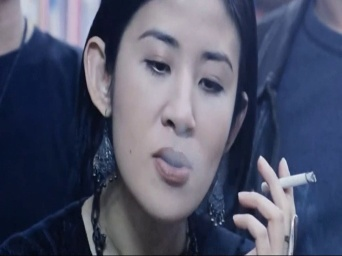smoke: (256, 169, 317, 192)
